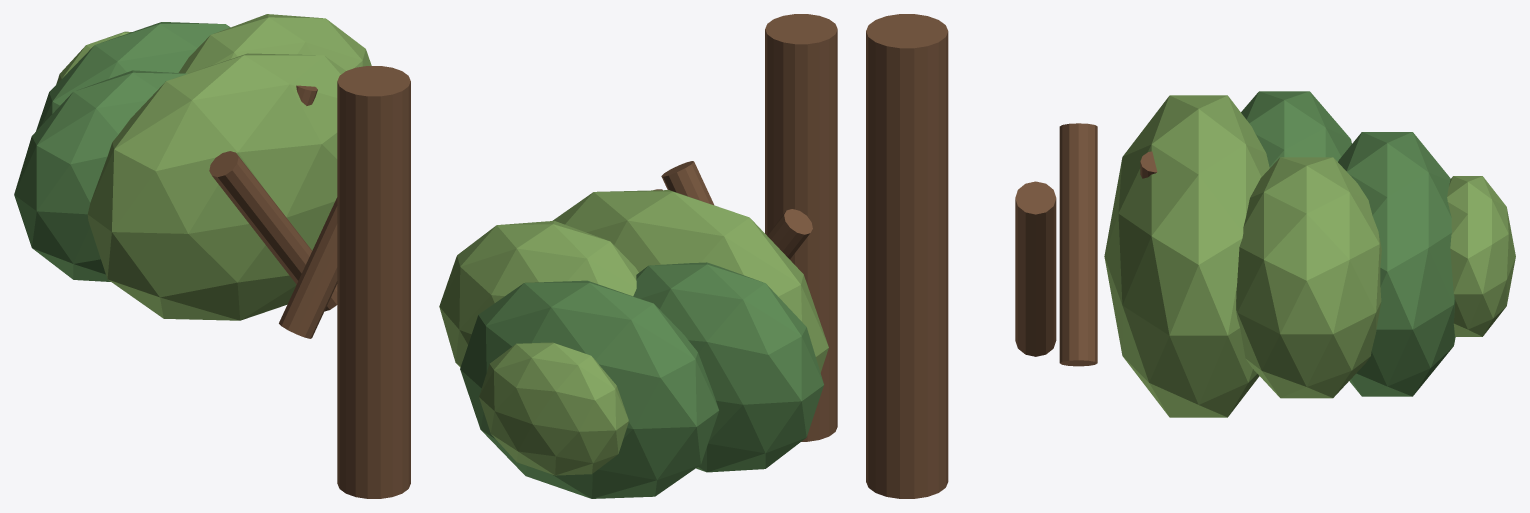
The model's file is camphor.glb.
The picture shows the model from 3 angles, left to right: view 1: azimuth 30°, elevation 25°; view 2: azimuth 150°, elevation 25°; view 3: azimuth 270°, elevation 25°; orthographic projection. The views are drawn at different scales.
Parts seen in each view (by area): view 1: camphor_canopy_00, camphor_trunk, camphor_canopy_01, camphor_canopy_03, camphor_canopy_02, camphor_branch_01, camphor_branch_00; view 2: camphor_canopy_03, camphor_canopy_01, camphor_trunk, camphor_canopy_04, camphor_canopy_00, camphor_canopy_02, camphor_branch_01, camphor_branch_00; view 3: camphor_trunk, camphor_canopy_00, camphor_canopy_02, camphor_canopy_03, camphor_branch_01, camphor_canopy_04, camphor_branch_00, camphor_canopy_01.
Part boxes in pixels (<box>): camphor_canopy_00: <box>87,53,345,320</box>; camphor_trunk: <box>337,66,410,498</box>; camphor_canopy_01: <box>14,70,187,281</box>; camphor_canopy_03: <box>36,22,230,130</box>; camphor_canopy_02: <box>178,14,371,73</box>; camphor_branch_01: <box>209,151,337,311</box>; camphor_branch_00: <box>279,197,337,338</box>; camphor_canopy_03: <box>460,280,718,498</box>; camphor_canopy_01: <box>633,262,823,472</box>; camphor_trunk: <box>765,14,837,441</box>; camphor_canopy_04: <box>479,342,628,475</box>; camphor_canopy_00: <box>552,190,828,372</box>; camphor_canopy_02: <box>439,221,638,367</box>; camphor_branch_01: <box>767,209,812,259</box>; camphor_branch_00: <box>661,161,713,204</box>; camphor_trunk: <box>866,14,948,498</box>; camphor_canopy_00: <box>1104,95,1269,417</box>; camphor_canopy_02: <box>1236,157,1381,398</box>; camphor_canopy_03: <box>1338,132,1455,396</box>; camphor_branch_01: <box>1059,123,1097,366</box>; camphor_canopy_04: <box>1447,176,1515,336</box>; camphor_branch_00: <box>1015,181,1056,356</box>; camphor_canopy_01: <box>1241,91,1351,167</box>.
Bounding box in the file's own units: 3.55 × 3.83 × 5.
